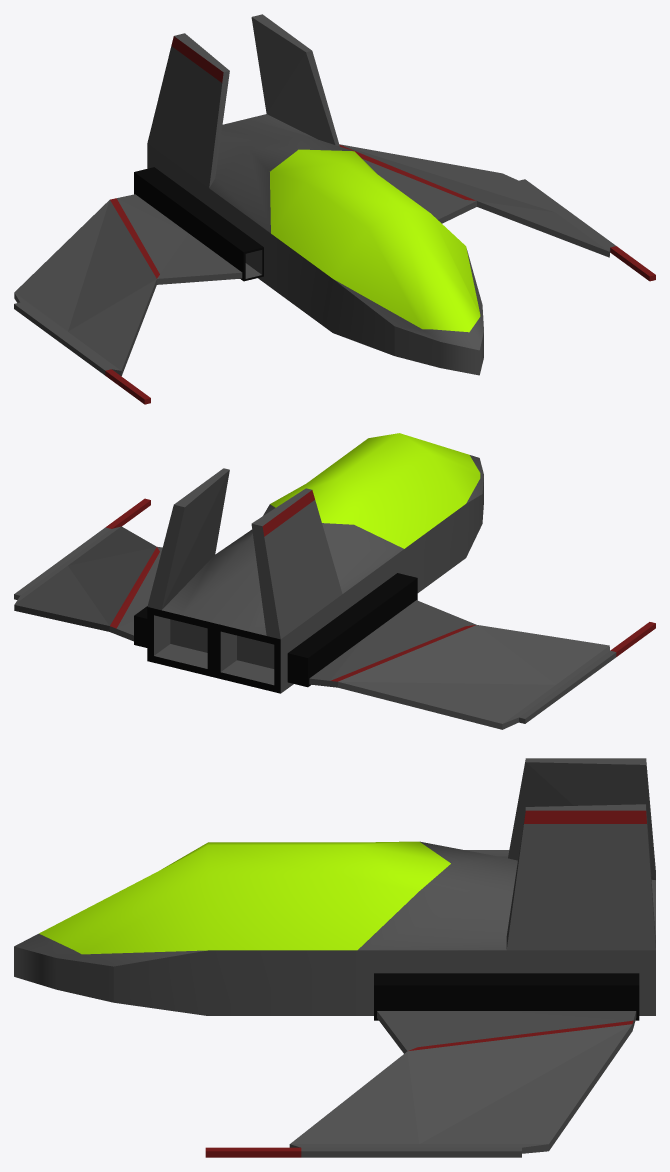
Rendered from Enemy 2.FBX.
The picture shows the model from 3 angles, top to bottom: view 1: azimuth 30°, elevation 25°; view 2: azimuth 150°, elevation 25°; view 3: azimuth 270°, elevation 25°; orthographic projection. The views are drawn at different scales.
Parts seen in each view (by area): view 1: Spaceship 2; view 2: Spaceship 2; view 3: Spaceship 2.
Boxes of the visible parts, bbox=[...] form: Spaceship 2: bbox=[14, 14, 655, 404]; Spaceship 2: bbox=[14, 433, 655, 729]; Spaceship 2: bbox=[14, 758, 655, 1157].
Bounding box in the file's own units: 59.71 × 20.58 × 53.74.
